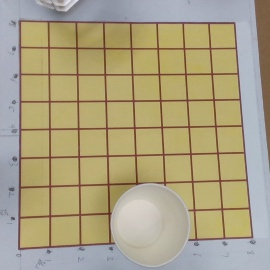cup: (109, 183, 189, 267)
